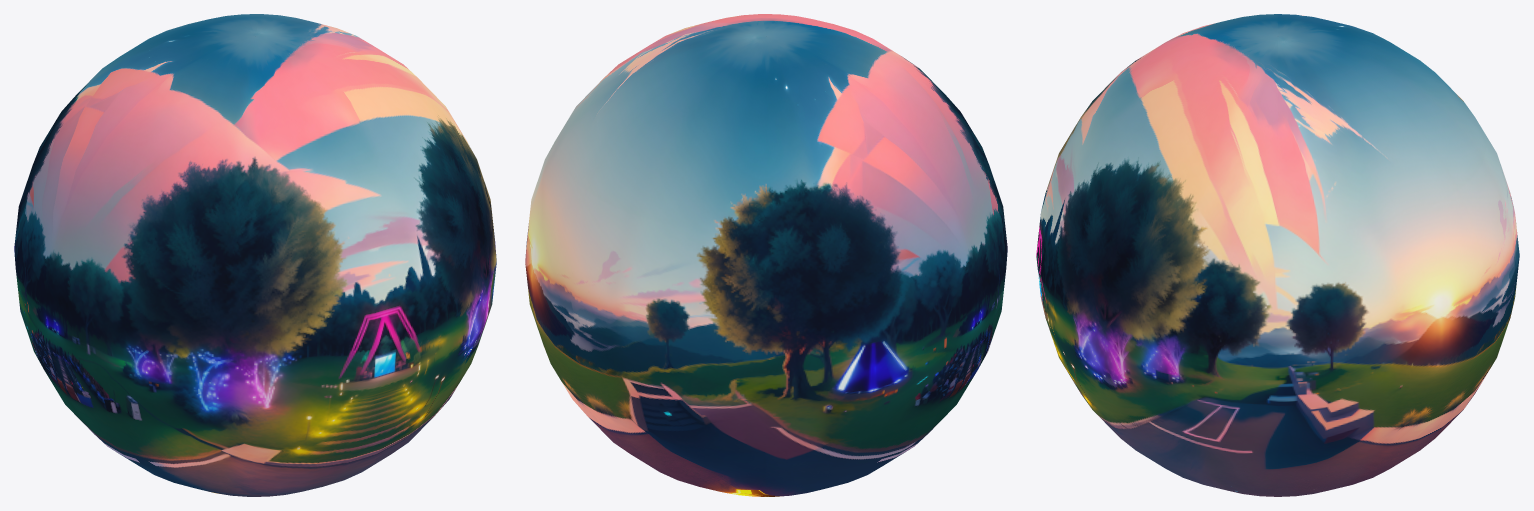
The model's file is sphereenv.glb.
The picture shows the model from 3 angles, left to right: view 1: azimuth 30°, elevation 25°; view 2: azimuth 150°, elevation 25°; view 3: azimuth 270°, elevation 25°; orthographic projection.
Visible parts, largest first — view 1: sphereenv; view 2: sphereenv; view 3: sphereenv.
Boxes of the visible parts, x1,y1,x2,y2 form: sphereenv: (14,14,496,496); sphereenv: (525,14,1007,496); sphereenv: (1036,14,1519,496).
Bounding box in the file's own units: 230 × 230 × 230.
Materials: 1 (1 with a texture image).
